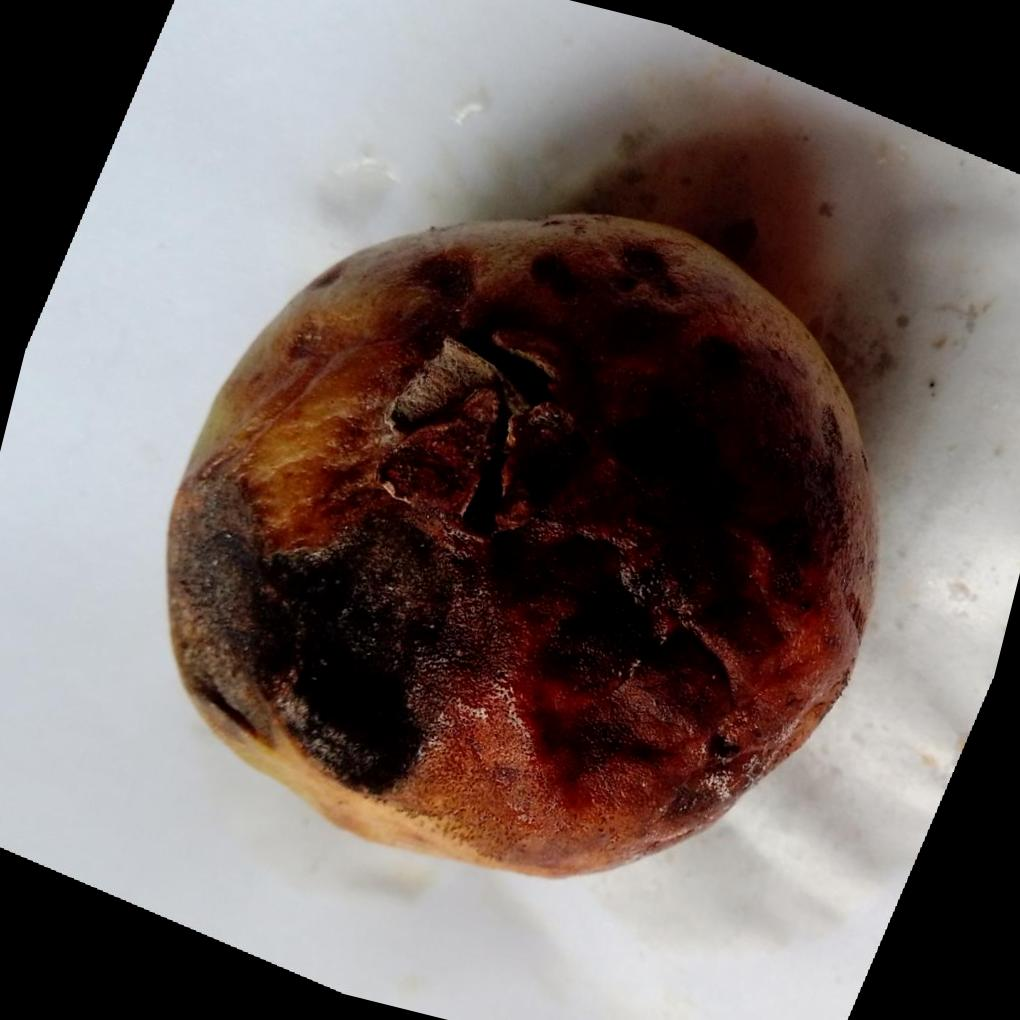FreshOrange: (165, 207, 881, 878)
